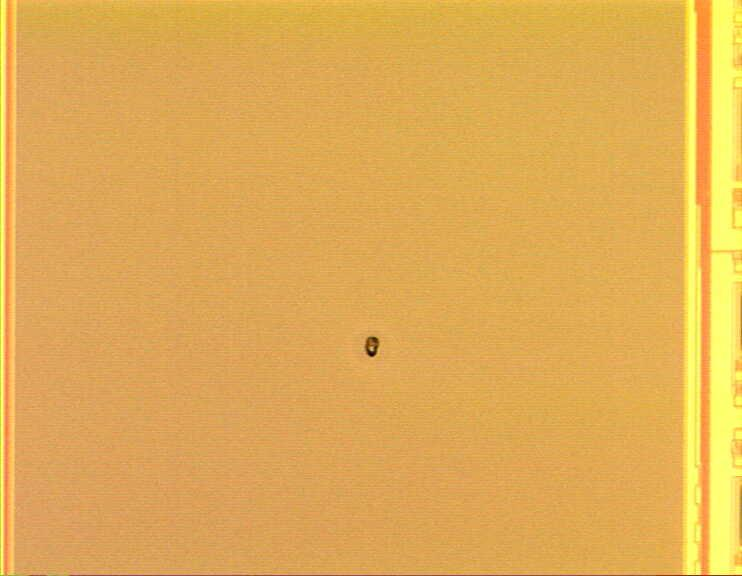PIQ PARTICLE: (363, 334, 384, 359)
